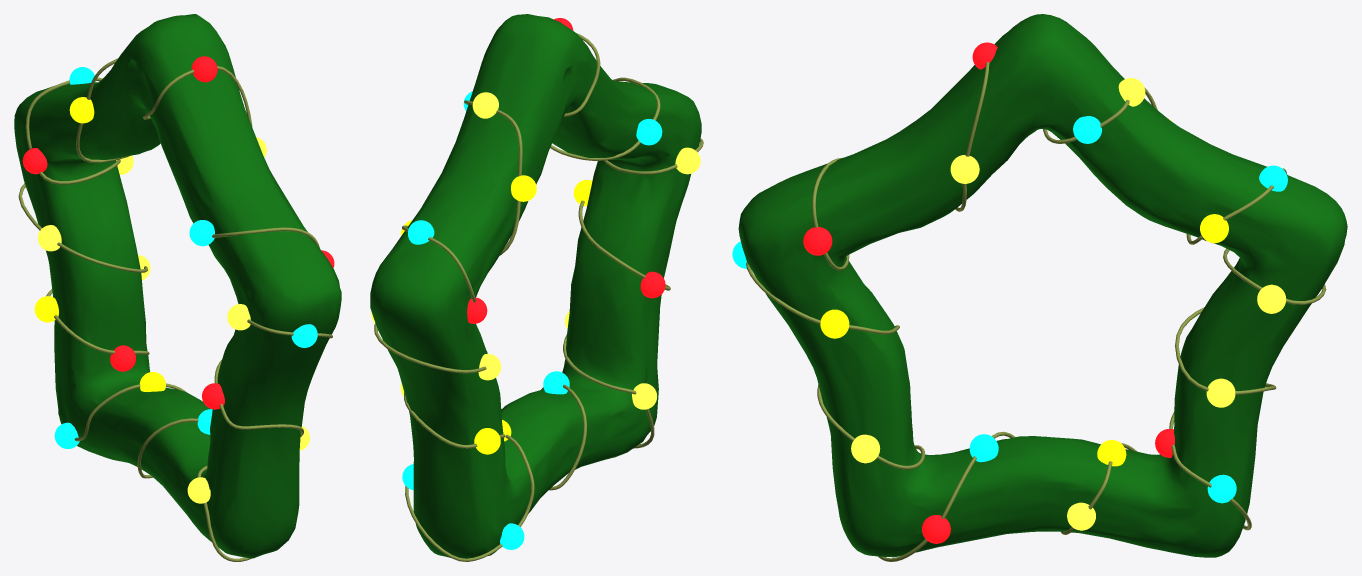
The picture shows the model from 3 angles, left to right: view 1: azimuth 30°, elevation 25°; view 2: azimuth 150°, elevation 25°; view 3: azimuth 270°, elevation 25°; orthographic projection. The views are drawn at different scales.
Visible parts, largest first — view 1: Венок, Гирлянда, Sphere.025, Sphere.001, Sphere.008, Sphere.026, Sphere.019, Sphere.018, Sphere.024, Sphere.021, Sphere.023, Sphere.020 (+3 smaller); view 2: Венок, Гирлянда, Sphere.026, Sphere.007, Sphere.025, Sphere.019, Sphere.021, Sphere.022, Sphere.023, Sphere.005, Sphere.020, Sphere.017 (+2 smaller); view 3: Венок, Гирлянда.
Part boxes in pixels (<box>): Венок: <box>14,14,341,558</box>; Гирлянда: <box>18,58,332,561</box>; Sphere.025: <box>189,220,214,246</box>; Sphere.001: <box>110,345,135,371</box>; Sphere.008: <box>191,56,217,82</box>; Sphere.026: <box>69,97,94,123</box>; Sphere.019: <box>34,296,58,322</box>; Sphere.018: <box>38,225,61,251</box>; Sphere.024: <box>22,148,47,174</box>; Sphere.021: <box>227,304,250,330</box>; Sphere.023: <box>187,477,210,503</box>; Sphere.020: <box>54,422,79,448</box>; Венок: <box>370,14,701,558</box>; Гирлянда: <box>374,33,703,561</box>; Sphere.026: <box>511,175,536,201</box>; Sphere.007: <box>472,92,498,118</box>; Sphere.025: <box>636,119,662,145</box>; Sphere.019: <box>474,428,500,454</box>; Sphere.021: <box>675,147,700,174</box>; Sphere.022: <box>640,271,665,298</box>; Sphere.023: <box>632,383,656,409</box>; Sphere.005: <box>408,220,434,244</box>; Sphere.020: <box>500,523,524,549</box>; Sphere.017: <box>543,371,569,394</box>; Венок: <box>738,14,1347,557</box>; Гирлянда: <box>746,62,1326,561</box>.
Bounding box in the file's own units: 0.5641 × 2.29 × 2.4.
